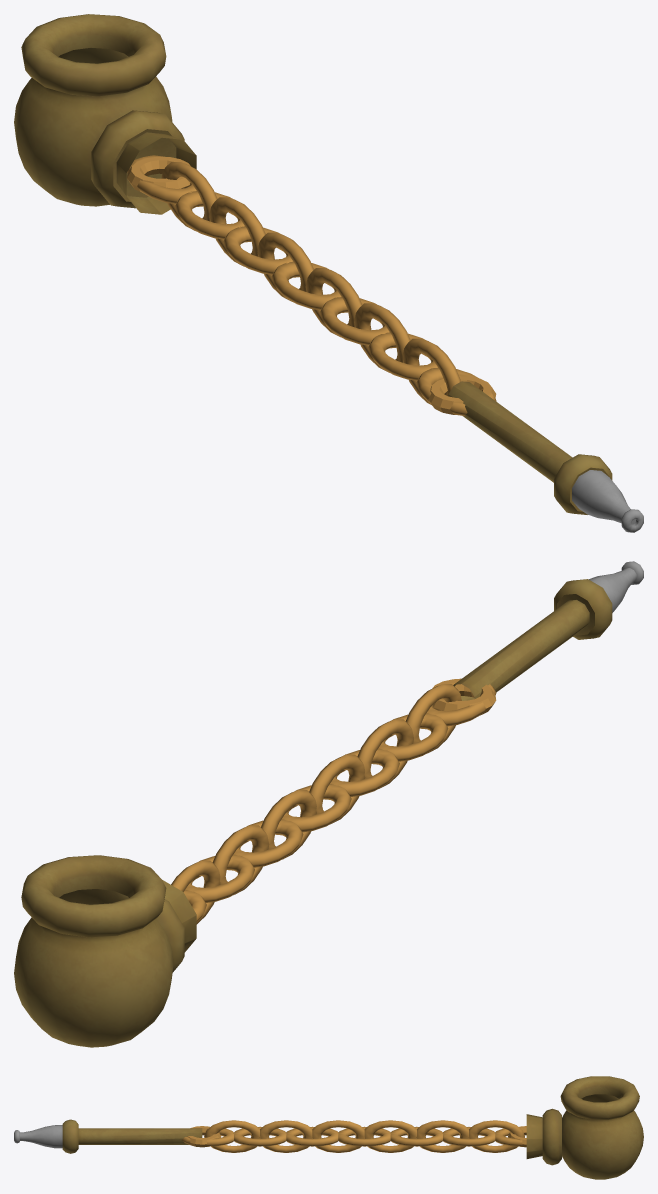
The model's file is chain_pipe.glb.
The picture shows the model from 3 angles, top to bottom: view 1: azimuth 30°, elevation 25°; view 2: azimuth 150°, elevation 25°; view 3: azimuth 270°, elevation 25°; orthographic projection. The views are drawn at different scales.
Visible parts, largest first — view 1: Chain_Head, Chain_Handle, Chain_Link_03, Chain_Link_07, Chain_Link_09, Chain_Link_01, Chain_Link_05, Chain_Link_10, Chain_Link_04, Chain_Link_08, Chain_Link_06, Chain_Link_02 (+5 smaller); view 2: Chain_Head, Chain_Handle, Chain_Link_03, Chain_Link_05, Chain_Link_09, Chain_Link_07, Chain_Link_06, Chain_Link_10, Chain_Link_08, Chain_Link_04, Chain_Link_02, Chain_Link_01 (+3 smaller); view 3: Chain_Head, Chain_Handle, Chain_Link_03, Chain_Link_05, Chain_Link_07, Chain_Link_11, Chain_Link_09, Chain_Link_01, Chain_Link_04, Chain_Link_06, Chain_Link_02, Chain_Link_08 (+4 smaller).
Part boxes in pixels (x1,y1,x2,y2): Chain_Head: (14,14,196,214); Chain_Handle: (448,381,643,532); Chain_Link_03: (354,303,410,372); Chain_Link_07: (257,232,313,301); Chain_Link_09: (209,197,265,266); Chain_Link_01: (403,338,460,404); Chain_Link_05: (305,268,362,337); Chain_Link_10: (175,191,244,239); Chain_Link_04: (320,297,389,345); Chain_Link_08: (223,226,292,274); Chain_Link_06: (271,261,341,309); Chain_Link_02: (368,332,437,380); Chain_Head: (14,855,196,1047); Chain_Handle: (453,561,643,700); Chain_Link_03: (357,719,413,788); Chain_Link_05: (309,754,365,824); Chain_Link_09: (212,825,269,894); Chain_Link_07: (261,790,316,859); Chain_Link_06: (282,784,351,832); Chain_Link_10: (185,854,254,902); Chain_Link_08: (233,819,303,867); Chain_Link_04: (330,748,399,796); Chain_Link_02: (378,713,448,761); Chain_Link_01: (406,684,461,753); Chain_Head: (526,1076,643,1179); Chain_Handle: (14,1119,202,1153); Chain_Link_03: (259,1120,312,1152); Chain_Link_05: (312,1120,364,1152); Chain_Link_07: (364,1120,417,1152); Chain_Link_11: (468,1120,524,1152); Chain_Link_09: (416,1120,469,1152); Chain_Link_01: (204,1120,260,1152); Chain_Link_04: (286,1126,338,1146); Chain_Link_06: (338,1126,390,1146); Chain_Link_02: (233,1126,286,1146); Chain_Link_08: (390,1126,442,1146).
Bounding box in the file's own units: 0.31 × 0.3438 × 2.29.
2 materials, 1 textured.
